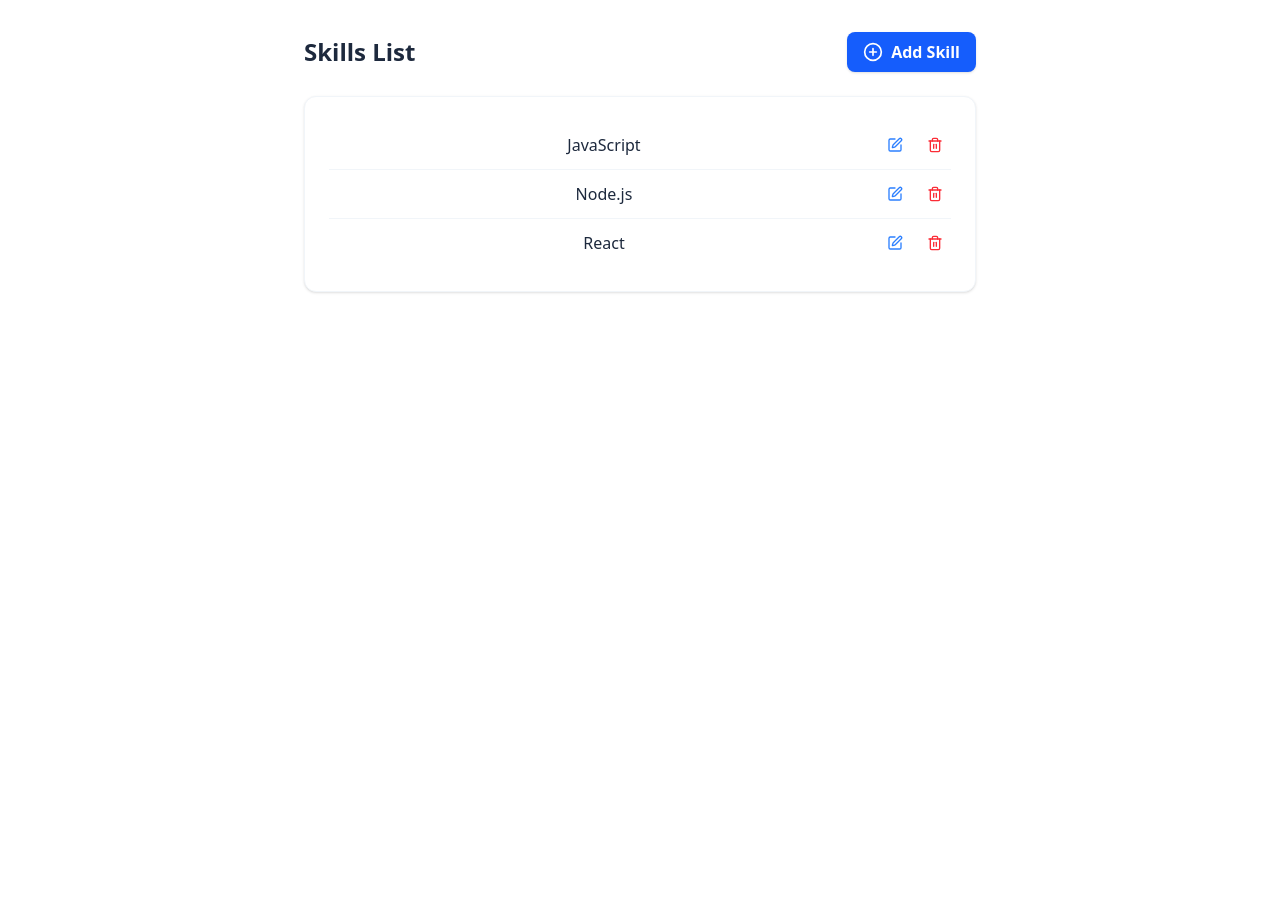
SkillSelector › should open add modal when add button is clicked
Click the button "Add Skill" at (912, 52), box 847,32 -> 976,72
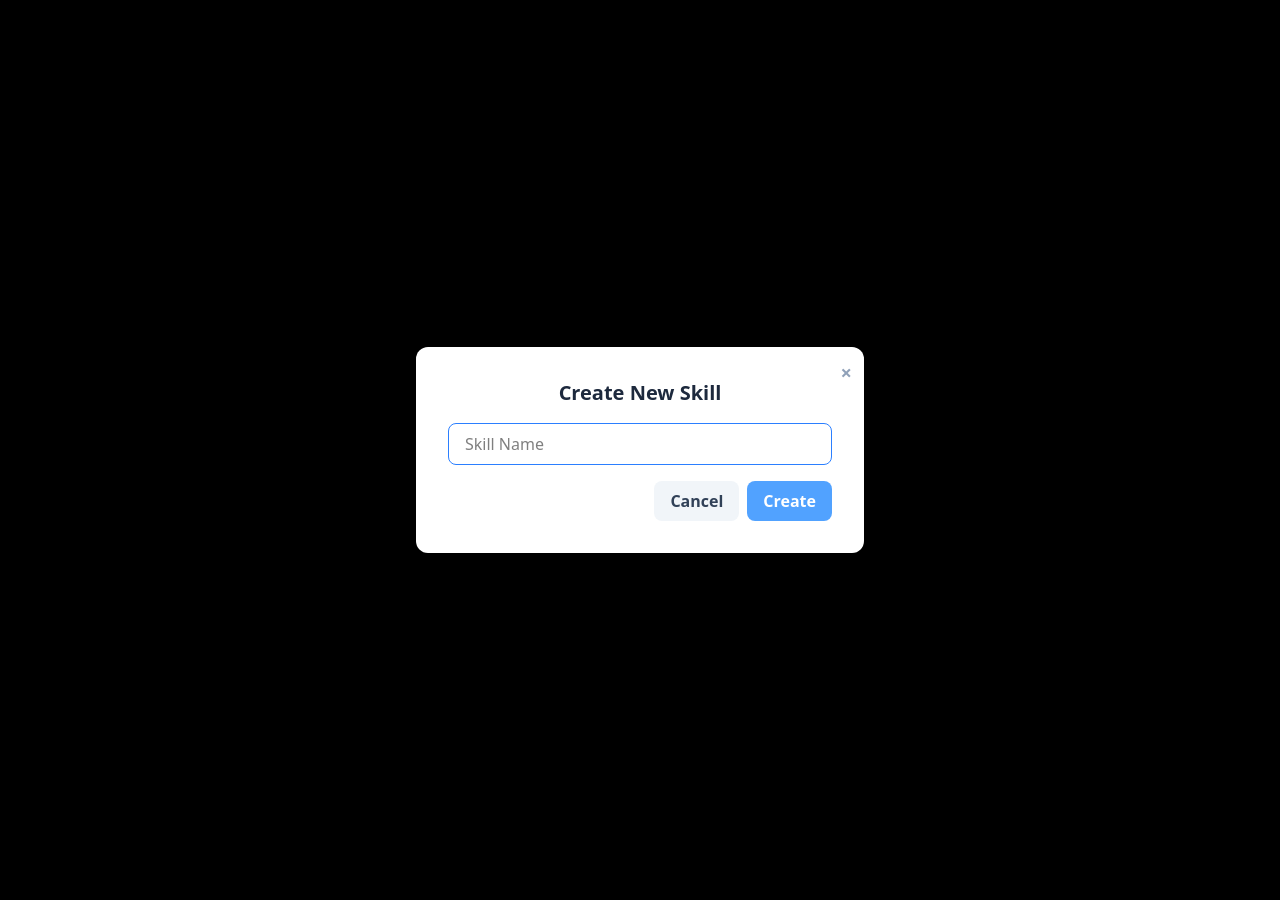
Check: the heading "Create New Skill" is shown, box 559,379 -> 721,406
